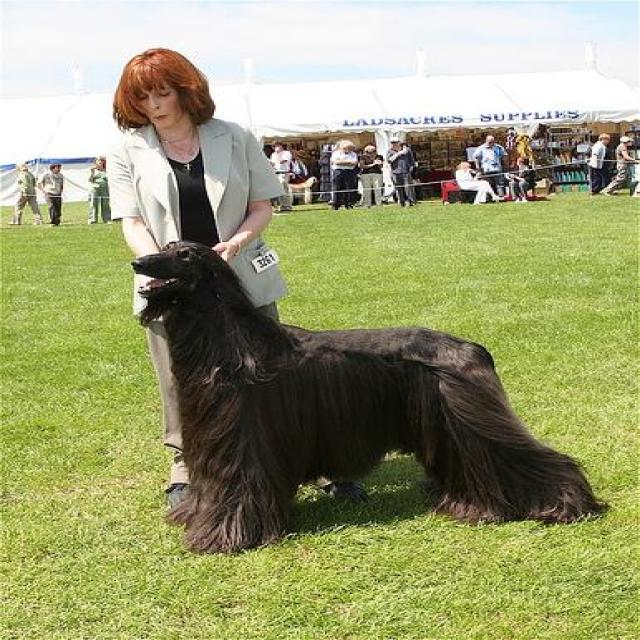afghan_hound: (127, 243, 614, 554)
